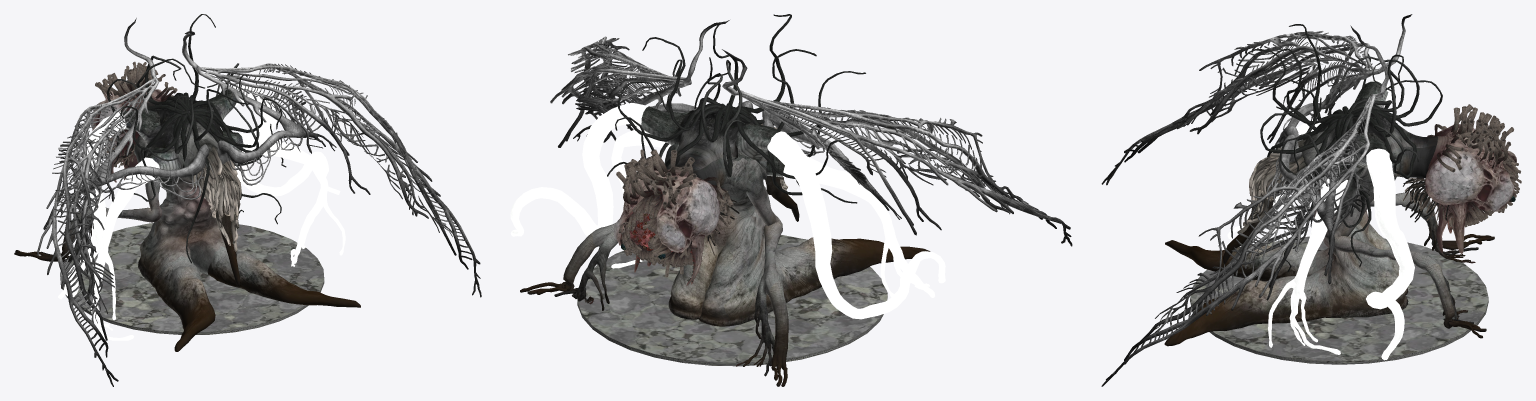
File: ebrietas-daughter-of-the-cosmos.glb
The picture shows the model from 3 angles, left to right: view 1: azimuth 30°, elevation 25°; view 2: azimuth 150°, elevation 25°; view 3: azimuth 270°, elevation 25°; orthographic projection. The views are drawn at different scales.
Parts seen in each view (by area): view 1: 18-bb_18_3, 18-bb_18_0, 34-Cylinder.obj, 18-bb_18_4, 18-bb_18_2, 18-bb_18_1; view 2: 18-bb_18_0, 18-bb_18_3, 34-Cylinder.obj, 18-bb_18_4, 18-bb_18_1, 18-bb_18_2; view 3: 18-bb_18_3, 18-bb_18_0, 34-Cylinder.obj, 18-bb_18_1, 18-bb_18_4, 18-bb_18_2.
Part boxes in pixels (bbox=[...]): 18-bb_18_3: bbox=[37, 18, 481, 386]; 18-bb_18_0: bbox=[14, 90, 360, 351]; 34-Cylinder.obj: bbox=[60, 223, 324, 334]; 18-bb_18_4: bbox=[58, 85, 345, 340]; 18-bb_18_2: bbox=[74, 14, 286, 263]; 18-bb_18_1: bbox=[91, 61, 180, 182]; 18-bb_18_0: bbox=[520, 106, 930, 386]; 18-bb_18_3: bbox=[550, 20, 1072, 246]; 34-Cylinder.obj: bbox=[577, 234, 887, 366]; 18-bb_18_4: bbox=[510, 103, 945, 319]; 18-bb_18_1: bbox=[613, 149, 739, 285]; 18-bb_18_2: bbox=[607, 14, 865, 203]; 18-bb_18_3: bbox=[1101, 14, 1412, 386]; 18-bb_18_0: bbox=[1164, 81, 1494, 346]; 34-Cylinder.obj: bbox=[1190, 236, 1488, 364]; 18-bb_18_1: bbox=[1403, 104, 1521, 253]; 18-bb_18_4: bbox=[1227, 80, 1414, 360]; 18-bb_18_2: bbox=[1234, 24, 1442, 272].
Size of the model in its own units: 6.73 by 4.06 by 5.63.
6 materials, 6 textured.
